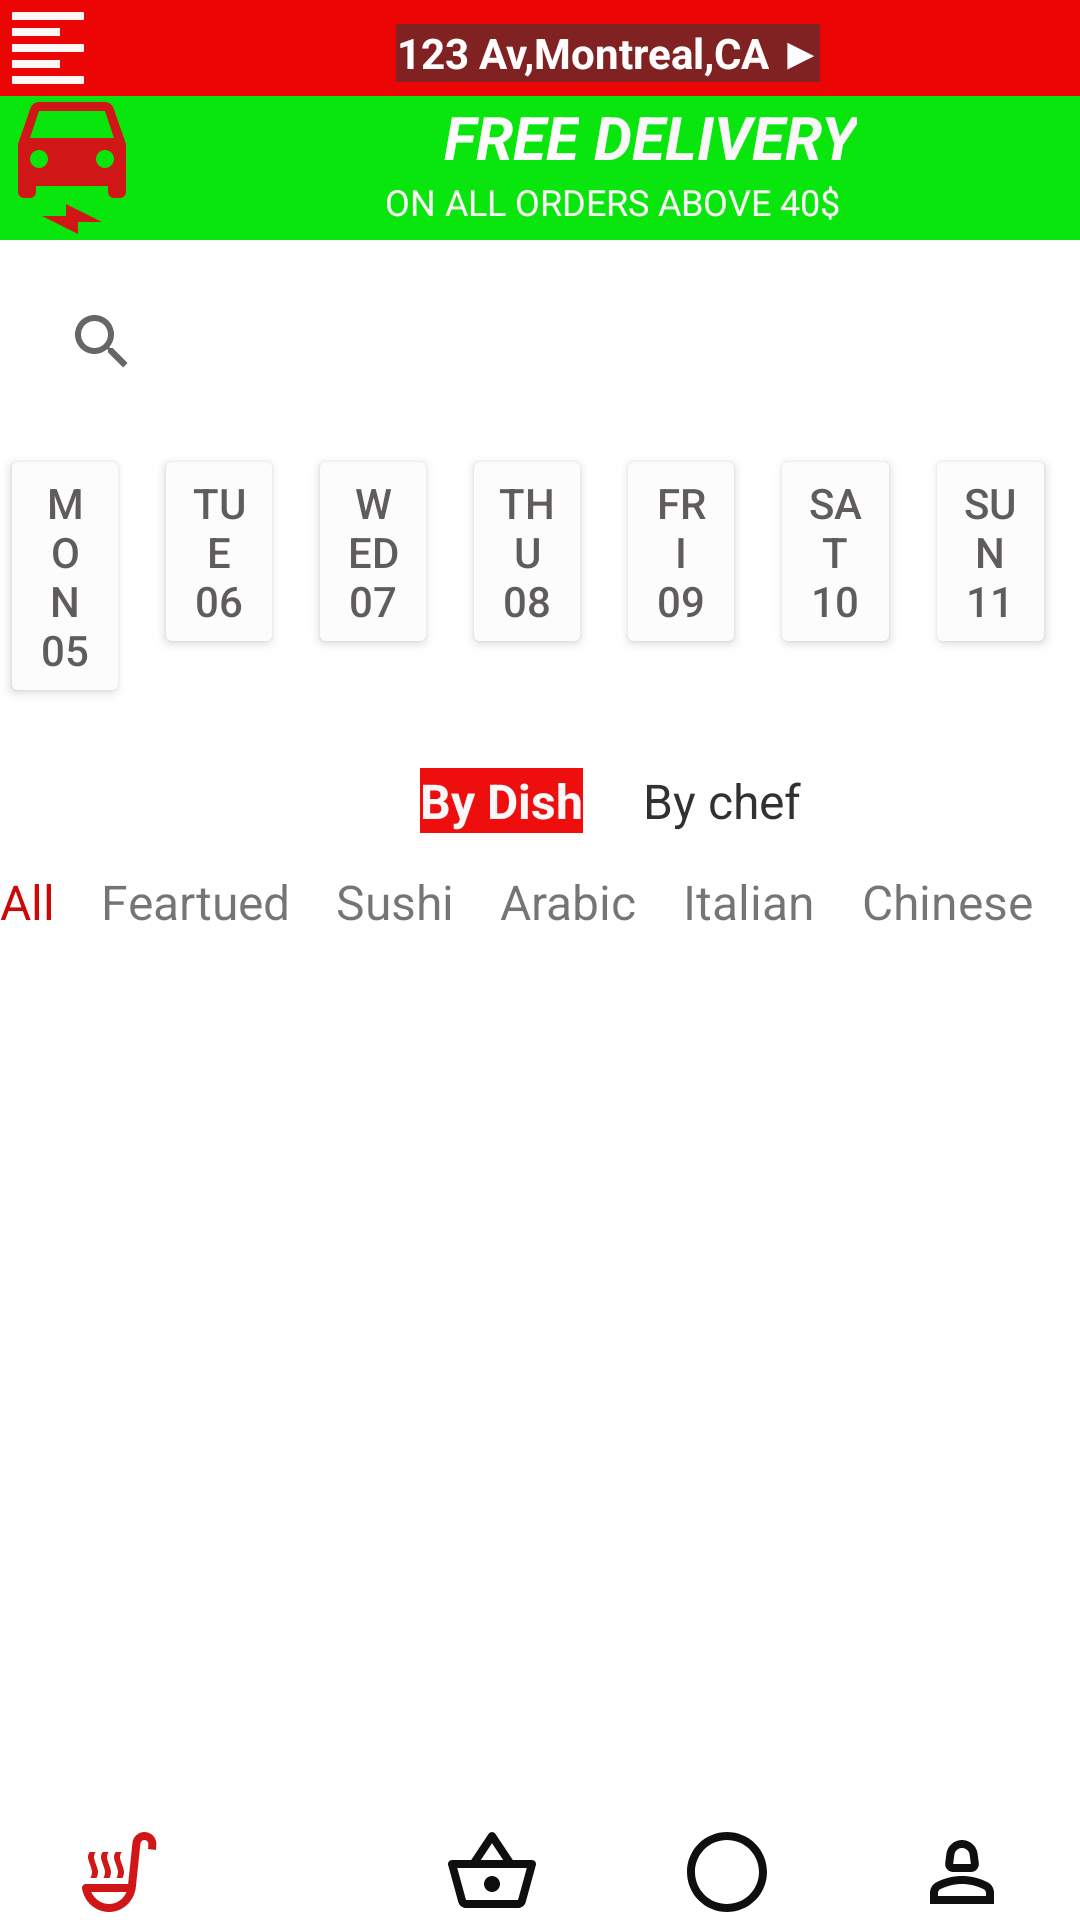

Point at icon controls on the screen. Image size 1080px×1920px, points as (x=x, y=y).
circle: (x=727, y=1872)
electric car: (x=72, y=168)
format align left: (x=48, y=48)
person: (x=962, y=1872)
shopping basket: (x=492, y=1870)
soup kitchen: (x=119, y=1872)
